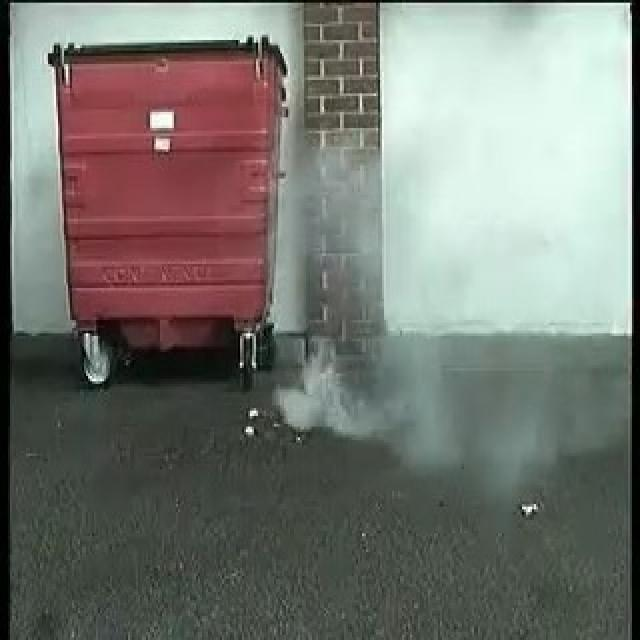smoke: (271, 175, 421, 438)
